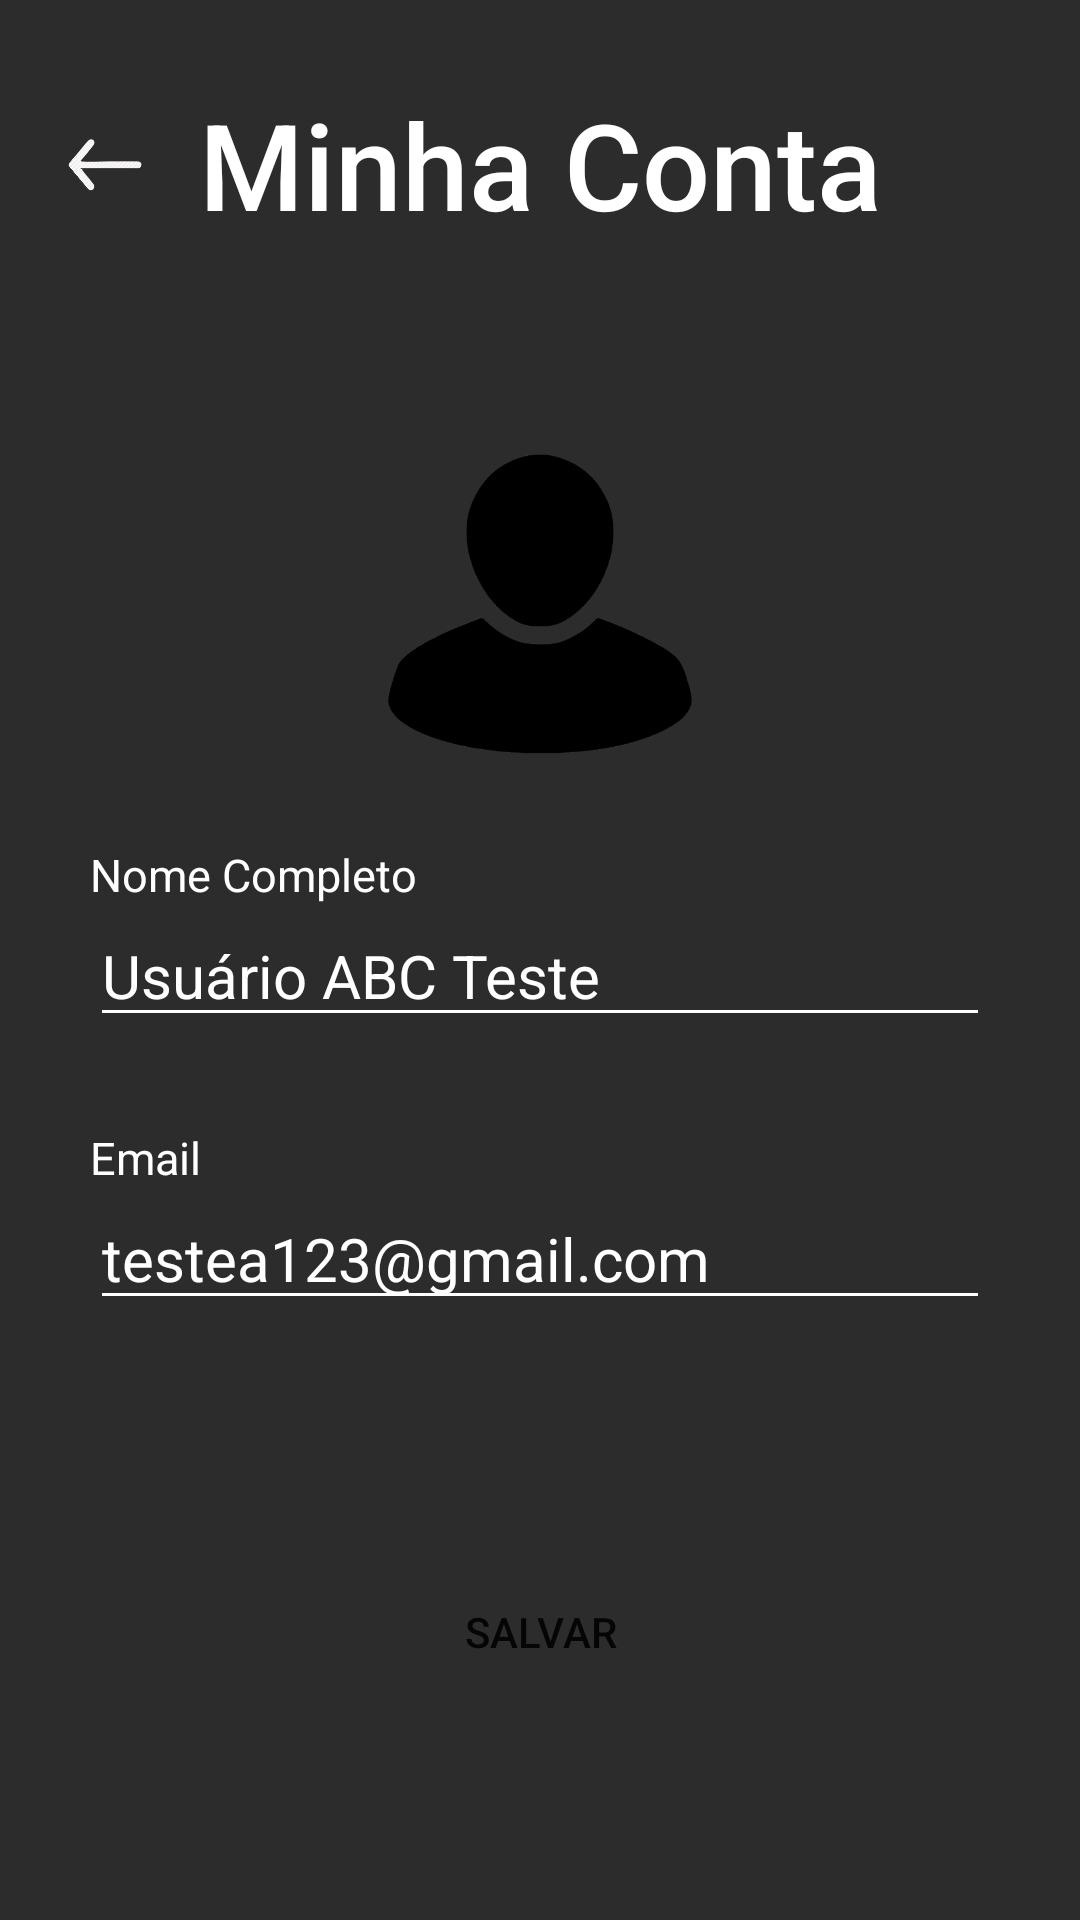

Icons on this 1080×1920 Android screen, each with its box as (x1, y1, x2, y2):
go back: (68, 139, 142, 190)
photo profille: (388, 455, 692, 753)
